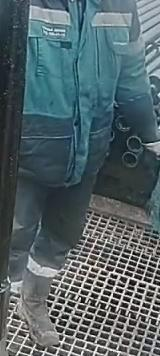gloves: (140, 127, 160, 183)
vest: (24, 0, 143, 187)
